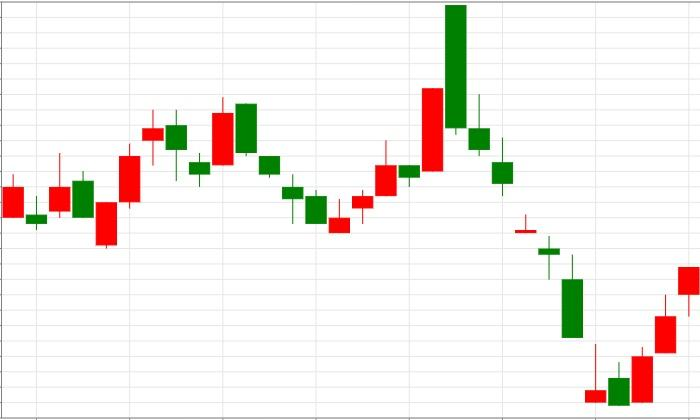three_black_crows_fall: (329, 5, 513, 232)
three_white_soldiers_rise: (446, 5, 699, 406)
